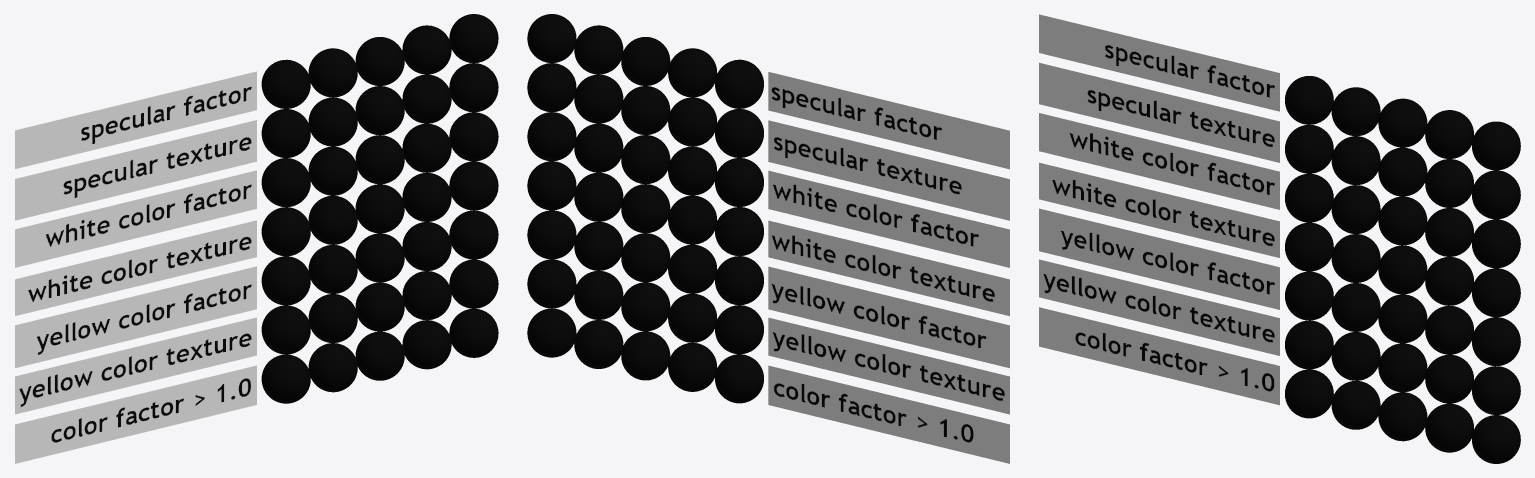
Rendered from SpecularTest.gltf.
3 renders of one model, left to right at view 1: azimuth 30°, elevation 25°; view 2: azimuth 150°, elevation 25°; view 3: azimuth 330°, elevation 25°, orthographic.
Parts seen in each view (by area): view 1: Labels, 4_whiteColorTexture, 2_specularTexture, 6_yellowColorTexture, 7.1_HDR_colorFactor, 5.1_yellowColorFactor, 1.2_specularFactor, 1.4_specularFactor, 3.1_whiteColorFactor, 3.3_whiteColorFactor, 3.2_whiteColorFactor, 3.5_whiteColorFactor (+12 smaller); view 2: Labels, 6_yellowColorTexture, 4_whiteColorTexture, 2_specularTexture, 7.3_HDR_colorFactor, 1.4_specularFactor, 5.5_yellowColorFactor, 7.5_HDR_colorFactor, 3.4_whiteColorFactor, 7.1_HDR_colorFactor, 3.5_whiteColorFactor, 1.2_specularFactor (+12 smaller); view 3: Labels, 6_yellowColorTexture, 4_whiteColorTexture, 2_specularTexture, 1.5_specularFactor, 3.5_whiteColorFactor, 5.1_yellowColorFactor, 5.2_yellowColorFactor, 7.3_HDR_colorFactor, 1.3_specularFactor, 3.3_whiteColorFactor, 1.2_specularFactor (+12 smaller).
Part boxes in pixels (left/top/right/bottom): Labels: left=15, top=71, right=256, bottom=463; 4_whiteColorTexture: left=261, top=161, right=498, bottom=256; 2_specularTexture: left=261, top=63, right=498, bottom=157; 6_yellowColorTexture: left=261, top=259, right=498, bottom=354; 7.1_HDR_colorFactor: left=261, top=354, right=310, bottom=403; 5.1_yellowColorFactor: left=261, top=256, right=310, bottom=305; 1.2_specularFactor: left=308, top=48, right=357, bottom=97; 1.4_specularFactor: left=402, top=25, right=451, bottom=74; 3.1_whiteColorFactor: left=261, top=158, right=310, bottom=207; 3.3_whiteColorFactor: left=355, top=135, right=404, bottom=184; 3.2_whiteColorFactor: left=308, top=146, right=357, bottom=195; 3.5_whiteColorFactor: left=449, top=112, right=498, bottom=161; Labels: left=768, top=72, right=1009, bottom=463; 6_yellowColorTexture: left=527, top=259, right=763, bottom=354; 4_whiteColorTexture: left=527, top=161, right=763, bottom=255; 2_specularTexture: left=527, top=63, right=763, bottom=157; 7.3_HDR_colorFactor: left=621, top=331, right=670, bottom=380; 1.4_specularFactor: left=574, top=25, right=623, bottom=74; 5.5_yellowColorFactor: left=527, top=210, right=576, bottom=259; 7.5_HDR_colorFactor: left=527, top=308, right=576, bottom=357; 3.4_whiteColorFactor: left=574, top=123, right=623, bottom=172; 7.1_HDR_colorFactor: left=715, top=354, right=763, bottom=403; 3.5_whiteColorFactor: left=527, top=112, right=576, bottom=161; 1.2_specularFactor: left=668, top=48, right=717, bottom=97; Labels: left=1039, top=14, right=1279, bottom=405; 6_yellowColorTexture: left=1285, top=320, right=1520, bottom=414; 4_whiteColorTexture: left=1285, top=222, right=1520, bottom=317; 2_specularTexture: left=1285, top=124, right=1520, bottom=219; 1.5_specularFactor: left=1472, top=121, right=1520, bottom=170; 3.5_whiteColorFactor: left=1472, top=219, right=1520, bottom=268; 5.1_yellowColorFactor: left=1285, top=271, right=1333, bottom=320; 5.2_yellowColorFactor: left=1331, top=283, right=1380, bottom=331; 7.3_HDR_colorFactor: left=1378, top=392, right=1427, bottom=441; 1.3_specularFactor: left=1378, top=98, right=1427, bottom=147; 3.3_whiteColorFactor: left=1378, top=196, right=1427, bottom=245; 1.2_specularFactor: left=1331, top=87, right=1380, bottom=136.
Bounding box in the file's own units: 1.13 × 0.76 × 0.1.
24 materials, 1 textured.
